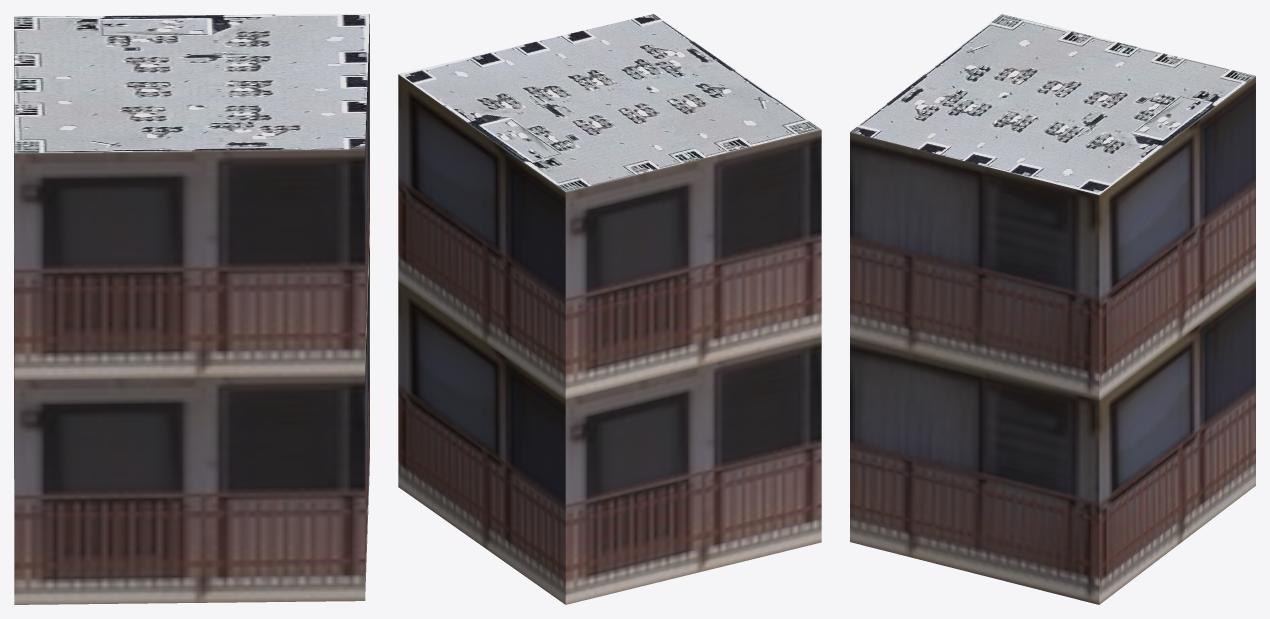
File: ResTex__4011.fbx
3 renders of one model, left to right at view 1: azimuth 30°, elevation 25°; view 2: azimuth 150°, elevation 25°; view 3: azimuth 270°, elevation 25°, orthographic. The views are drawn at different scales.
Parts seen in each view (by area): view 1: CityEngineMaterial_6_m, CityEngineMaterial_4_m; view 2: CityEngineMaterial_6_m, CityEngineMaterial_4_m; view 3: CityEngineMaterial_6_m, CityEngineMaterial_4_m.
Part boxes in pixels (bbox=[...]): CityEngineMaterial_6_m: bbox=[14, 15, 369, 604]; CityEngineMaterial_4_m: bbox=[14, 14, 369, 152]; CityEngineMaterial_6_m: bbox=[398, 74, 821, 604]; CityEngineMaterial_4_m: bbox=[399, 14, 820, 191]; CityEngineMaterial_6_m: bbox=[850, 76, 1255, 604]; CityEngineMaterial_4_m: bbox=[850, 14, 1255, 194].
Bounding box in the file's own units: 5.69 × 6 × 5.38.
Materials: 2 (2 with a texture image).
